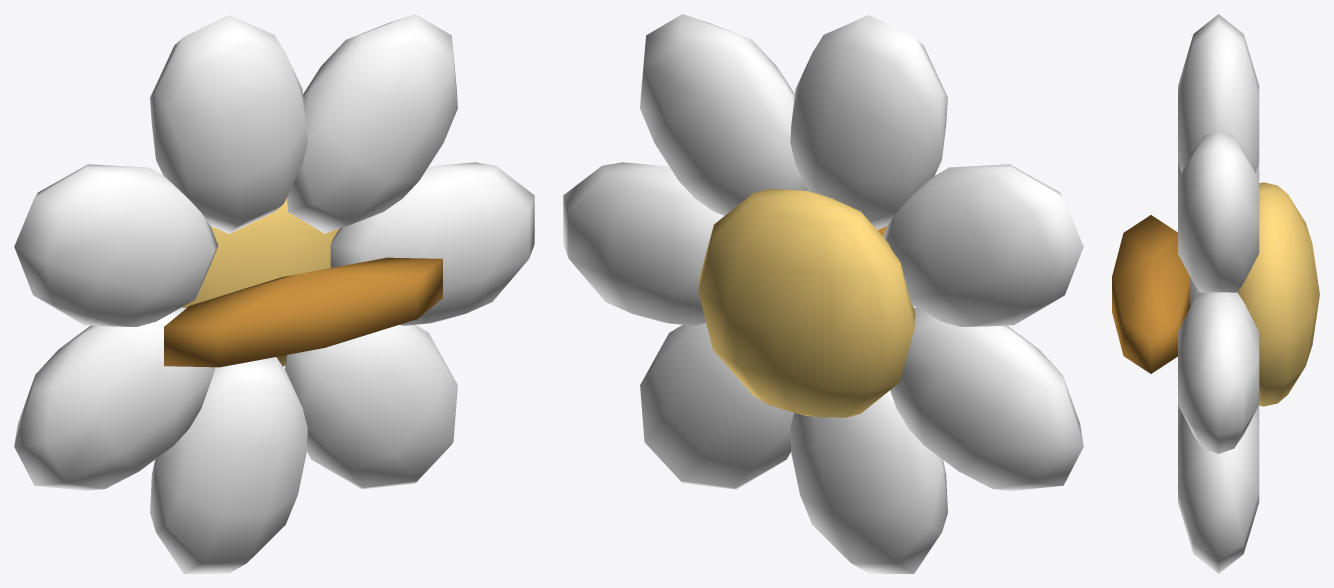
Rendered from pin_daisy.glb.
The picture shows the model from 3 angles, left to right: view 1: azimuth 30°, elevation 25°; view 2: azimuth 150°, elevation 25°; view 3: azimuth 270°, elevation 25°; orthographic projection. The views are drawn at different scales.
Parts seen in each view (by area): view 1: Petal.001, Petal.002, Petal.003, Petal.005, Petal.004, Petal.006, Clip, Petal, FlowerCenter; view 2: FlowerCenter, Petal.003, Petal.002, Petal.004, Petal.001, Petal.005, Petal, Petal.006; view 3: FlowerCenter, Petal.001, Petal, Clip, Petal.006, Petal.002.
Boxes of the visible parts, x1,y1,x2,y2 form: Petal.001: (287,14,457,233); Petal.002: (150,15,307,233); Petal.003: (14,164,218,326); Petal.005: (150,357,307,573); Petal.004: (14,307,215,490); Petal.006: (285,325,457,489); Clip: (164,257,442,367); Petal: (330,162,534,325); FlowerCenter: (182,198,339,366); FlowerCenter: (698,189,915,417); Petal.003: (883,164,1083,326); Petal.002: (790,15,947,229); Petal.004: (890,307,1083,490); Petal.001: (640,14,807,215); Petal.005: (790,390,947,573); Petal: (563,162,723,325); Petal.006: (640,323,793,489); FlowerCenter: (1237,182,1319,406); Petal.001: (1178,130,1259,292); Petal: (1178,292,1259,453); Clip: (1112,215,1189,373); Petal.006: (1178,413,1259,573); Petal.002: (1178,14,1259,172).
Bounding box in the file's own units: 0.0485 × 0.0497 × 0.0185.
1 material, 1 textured.
